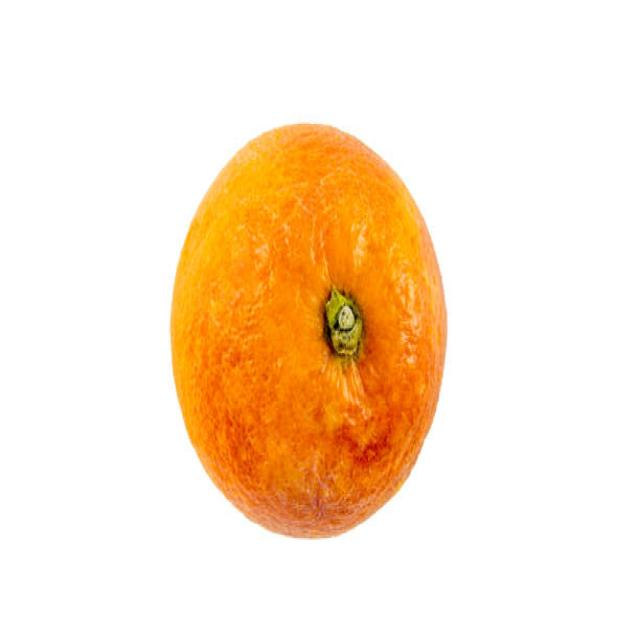overripe: (163, 113, 452, 544)
